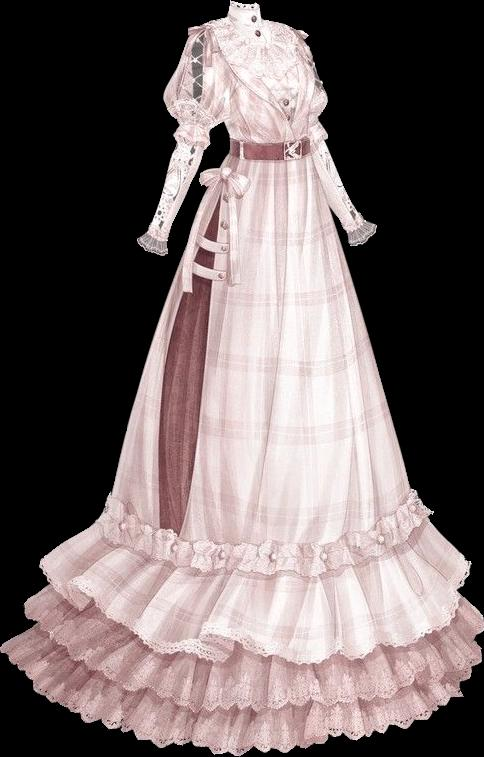Bodice: (195, 0, 317, 163)
Hemline: (0, 648, 483, 756), (22, 608, 483, 713), (35, 560, 476, 665)
Neckline: (255, 60, 305, 139), (218, 49, 300, 83), (225, 129, 310, 147), (229, 0, 257, 12)
Skirt: (0, 155, 483, 754)
Sleeve: (137, 25, 224, 255)
Sleeveline: (189, 24, 230, 124)
Waistline: (94, 494, 427, 574), (224, 148, 315, 170)
